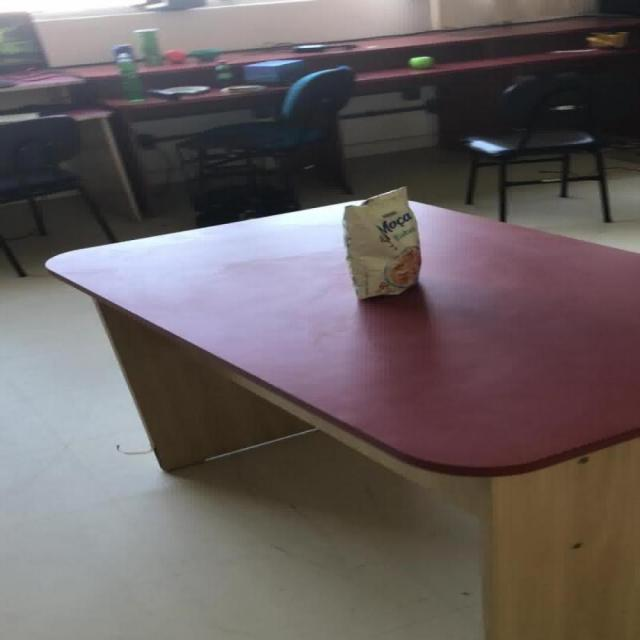CornFlakes: (339, 185, 422, 300)
